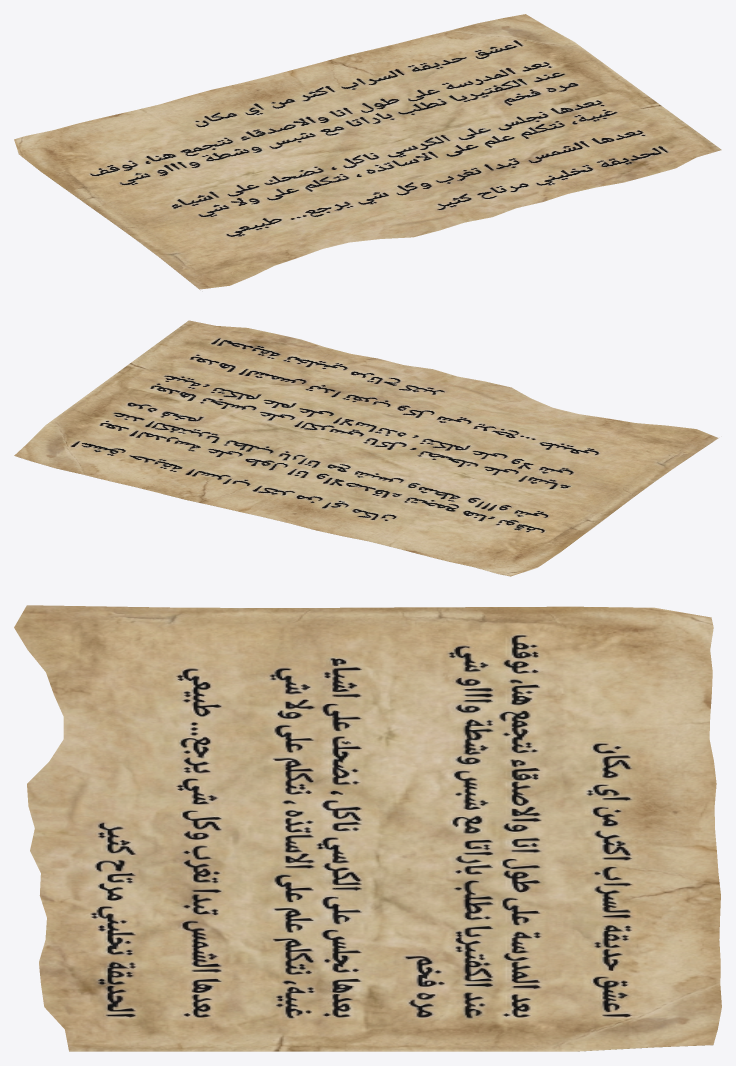
File: Adel's message 1st half.fbx
The picture shows the model from 3 angles, top to bottom: view 1: azimuth 30°, elevation 25°; view 2: azimuth 150°, elevation 25°; view 3: azimuth 270°, elevation 25°; orthographic projection. The views are drawn at different scales.
Visible parts, largest first — view 1: pCube1; view 2: pCube1; view 3: pCube1.
Part boxes in pixels (x1,y1,x2,y2): pCube1: (14, 14, 721, 289); pCube1: (14, 320, 718, 576); pCube1: (14, 605, 721, 1051).
Size of the model in its own units: 0.6607 by 8.36e-05 by 0.4429.
1 material, 1 textured.
